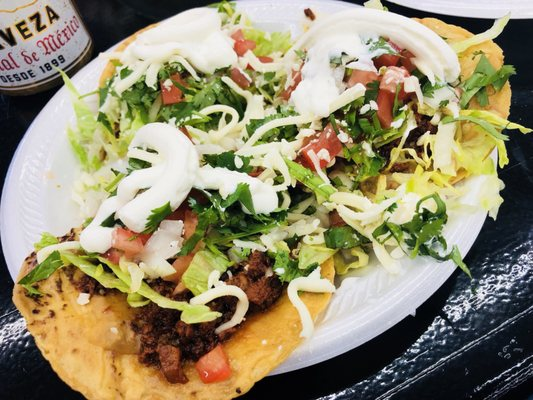burger: (0, 0, 96, 110)
curry: (0, 1, 501, 400)
sandwich: (3, 2, 523, 400)
